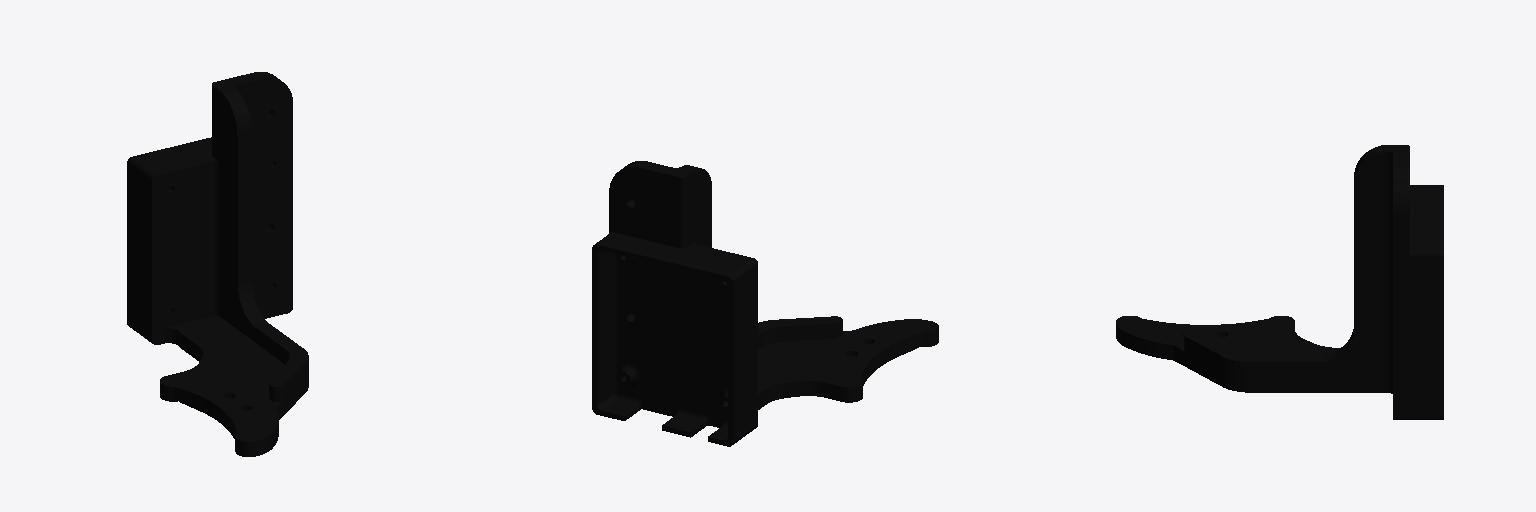
The model's file is camera_holder.obj.
3 renders of one model, left to right at view 1: azimuth 30°, elevation 25°; view 2: azimuth 150°, elevation 25°; view 3: azimuth 270°, elevation 25°, orthographic.
Visible parts, largest first — view 1: camera_holder_v2; view 2: camera_holder_v2; view 3: camera_holder_v2.
Part boxes in pixels (x1,y1,x2,y2): camera_holder_v2: (127, 72, 308, 456); camera_holder_v2: (592, 161, 938, 446); camera_holder_v2: (1116, 145, 1443, 419).
Bounding box in the file's own units: 77.3 × 94.9 × 117.